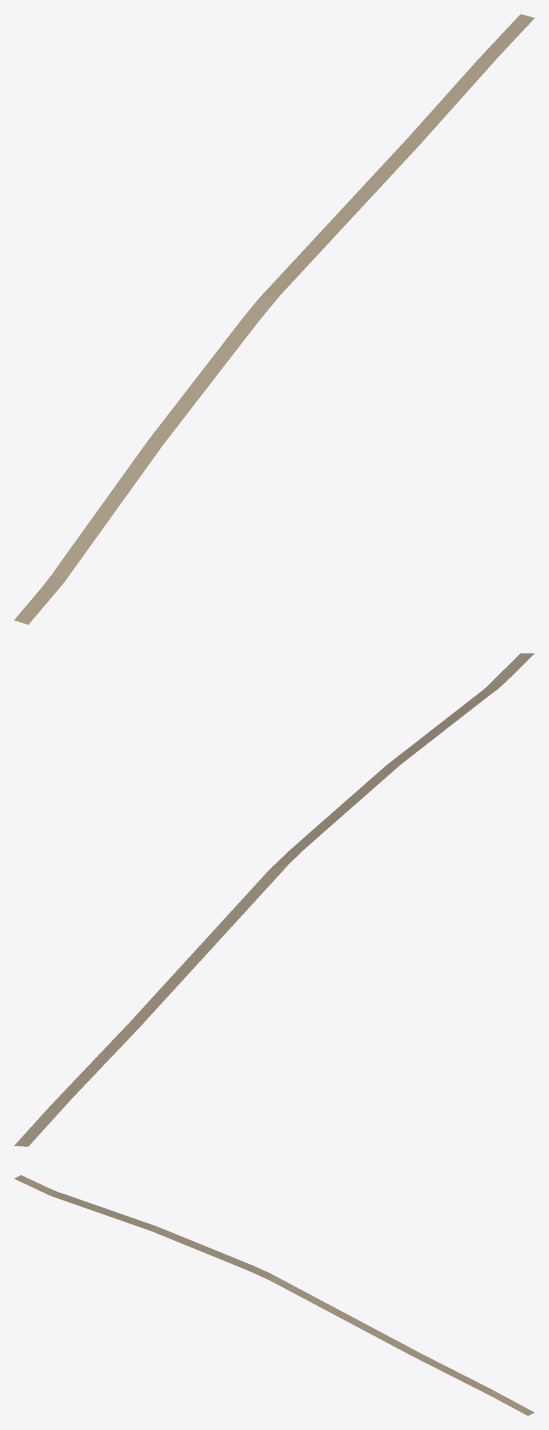
File: farm_-4_-7_track.glb
The picture shows the model from 3 angles, top to bottom: view 1: azimuth 30°, elevation 25°; view 2: azimuth 210°, elevation 25°; view 3: azimuth 270°, elevation 25°; orthographic projection. The views are drawn at different scales.
Parts seen in each view (by area): view 1: geometry_0; view 2: geometry_0; view 3: geometry_0.
Part boxes in pixels (bbox=[...]): geometry_0: bbox=[14, 14, 534, 624]; geometry_0: bbox=[14, 653, 534, 1146]; geometry_0: bbox=[14, 1175, 534, 1415].
Bounding box in the file's own units: 234 × 13.96 × 188.
